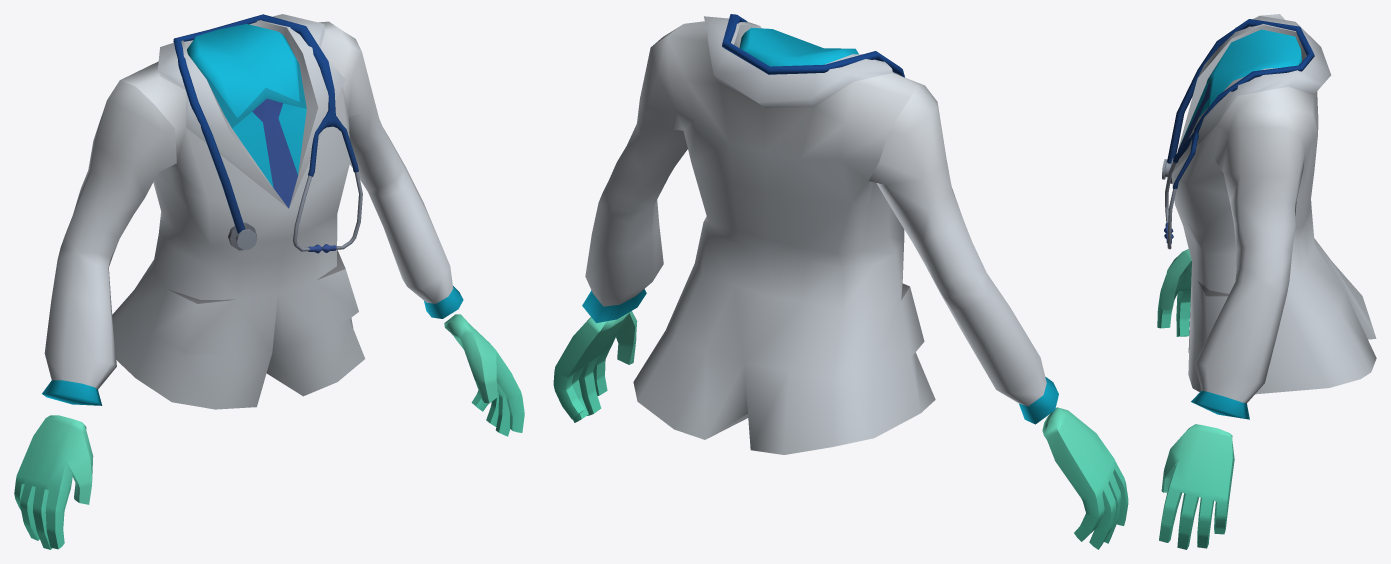
The model's file is _F_Doctor_Body_T.fbx.
3 views of the same model, side by side, from view 1: azimuth 30°, elevation 25°; view 2: azimuth 150°, elevation 25°; view 3: azimuth 270°, elevation 25° (orthographic). The views are drawn at different scales.
Visible parts, largest first — view 1: _F_Doctor_Body_T; view 2: _F_Doctor_Body_T; view 3: _F_Doctor_Body_T.
Part boxes in pixels (box(x1,y1,x2,y2)): _F_Doctor_Body_T: box(14, 14, 524, 549); _F_Doctor_Body_T: box(553, 14, 1128, 549); _F_Doctor_Body_T: box(1157, 14, 1376, 549).
Size of the model in its own units: 85.31 by 70.77 by 35.04.
